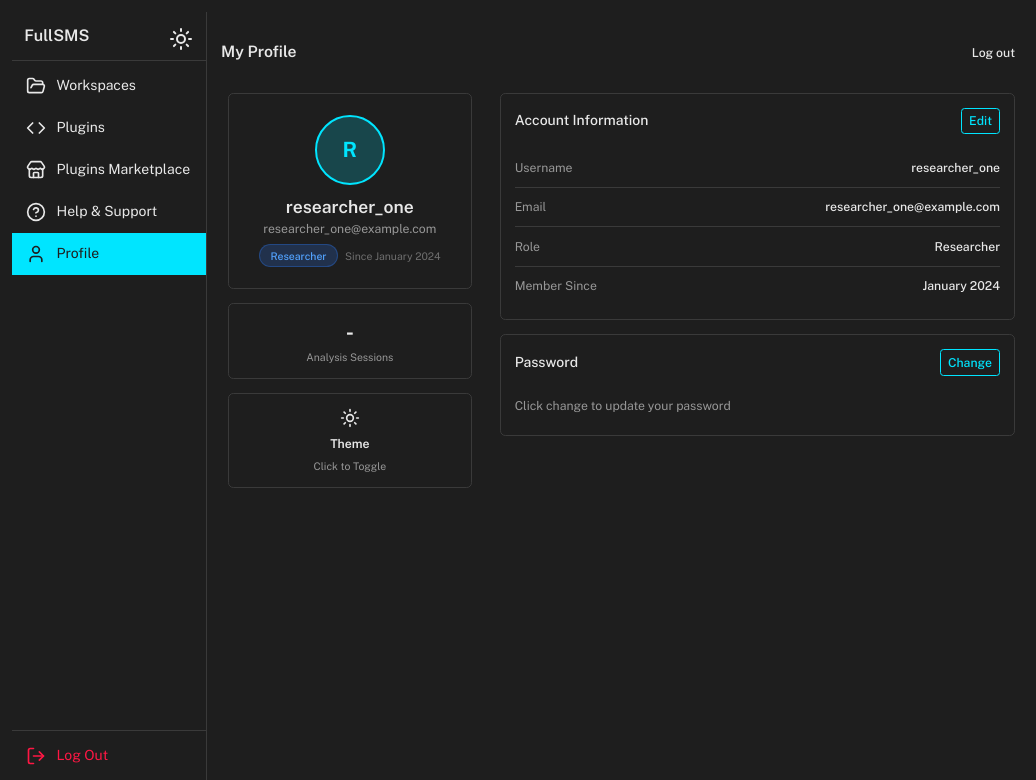
Test: ProfilePage › clicking Edit shows the edit form
The image size is (1036, 780).
expect the heading "My Profile" is shown: met, box [221, 40, 297, 64]
What coordinates should you click on to do the following:
click the button "Edit"
I would click on:
 (980, 121)
Its box is [961, 108, 1000, 134].
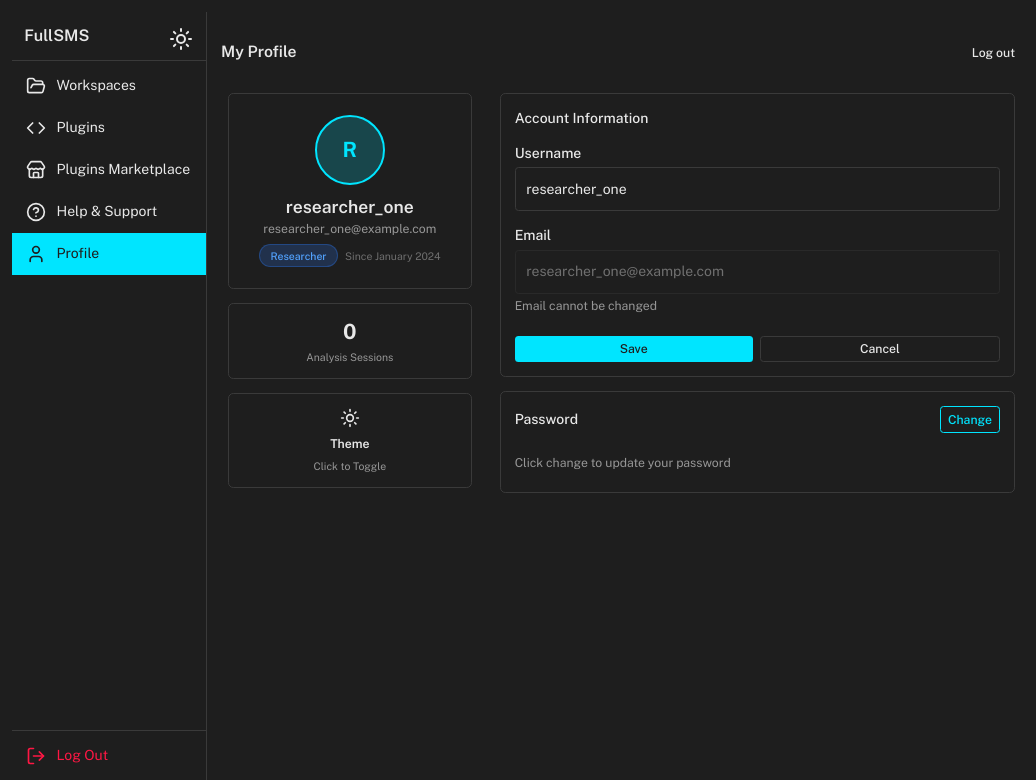
expect the field labelled "Username" is shown: met, box [515, 167, 1000, 211]
expect the field labelled "Email" is shown: met, box [515, 250, 1000, 294]
